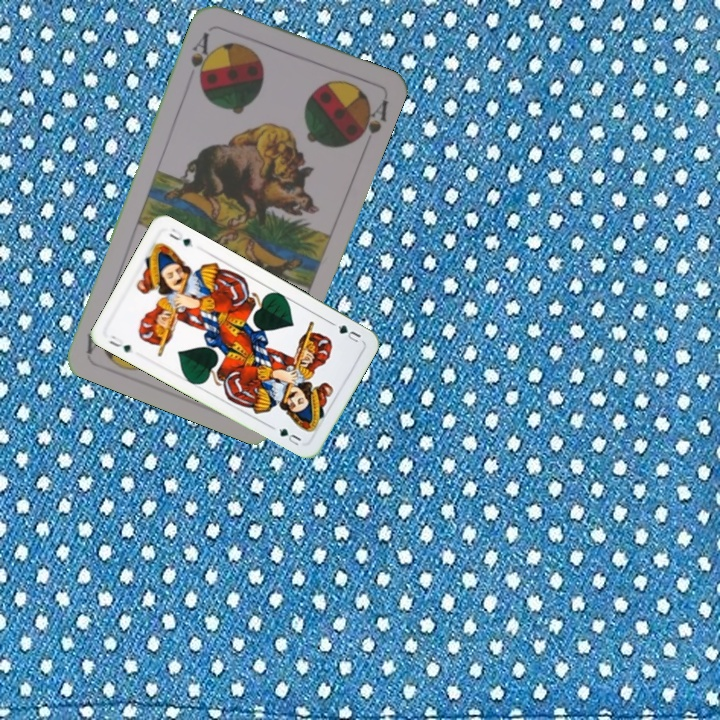GU: (328, 318, 363, 346), (105, 331, 134, 355)
SA: (186, 24, 216, 84)
